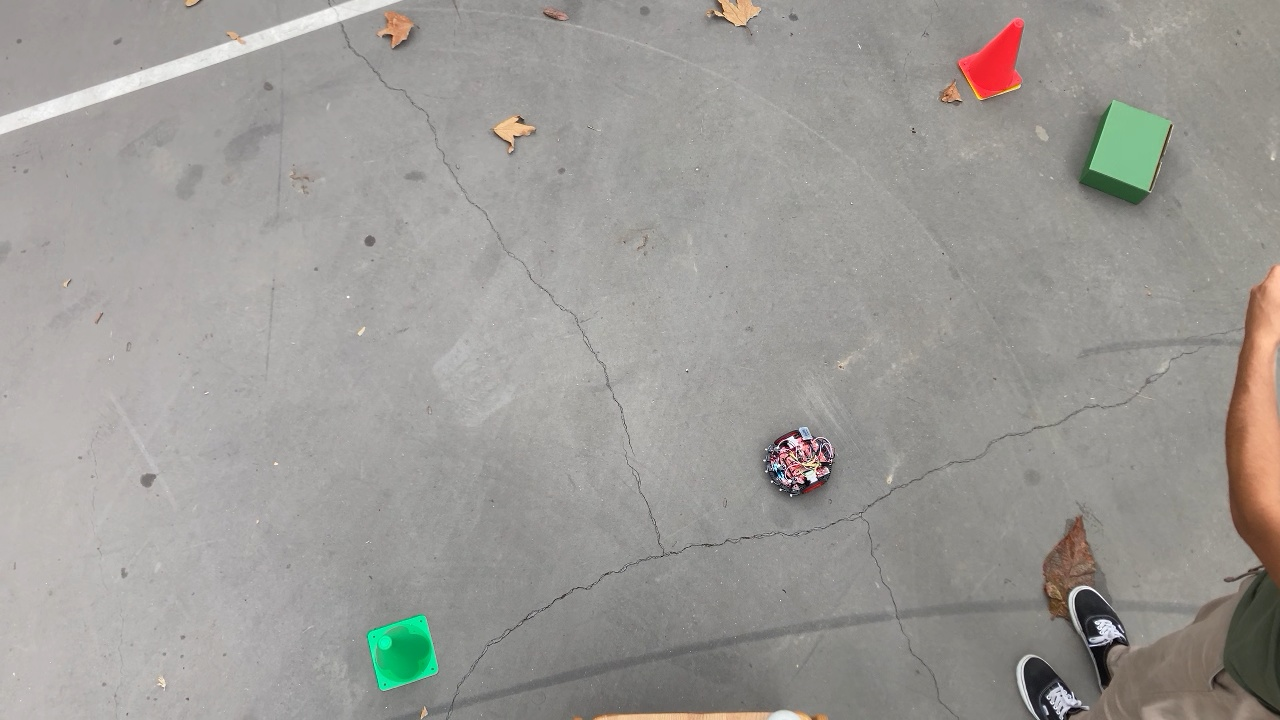green_cone: (362, 612, 445, 696)
robot: (759, 425, 838, 503)
